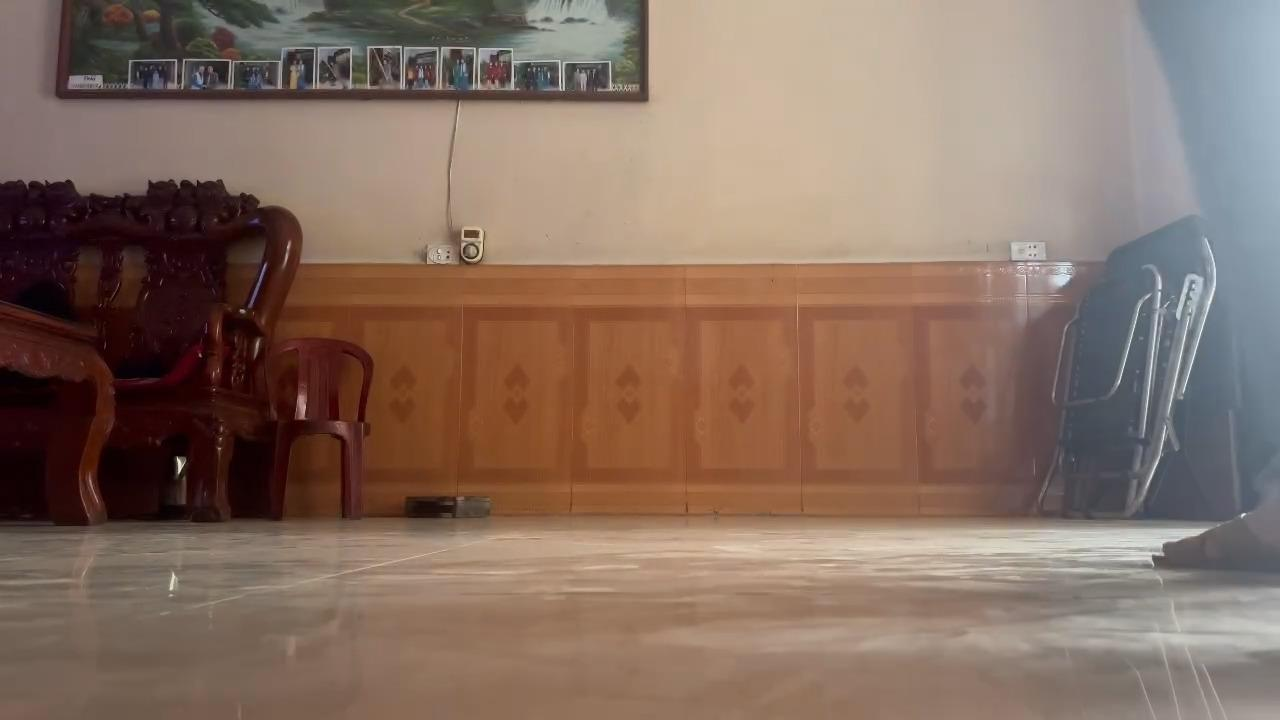no-boot: (1142, 522, 1280, 576)
